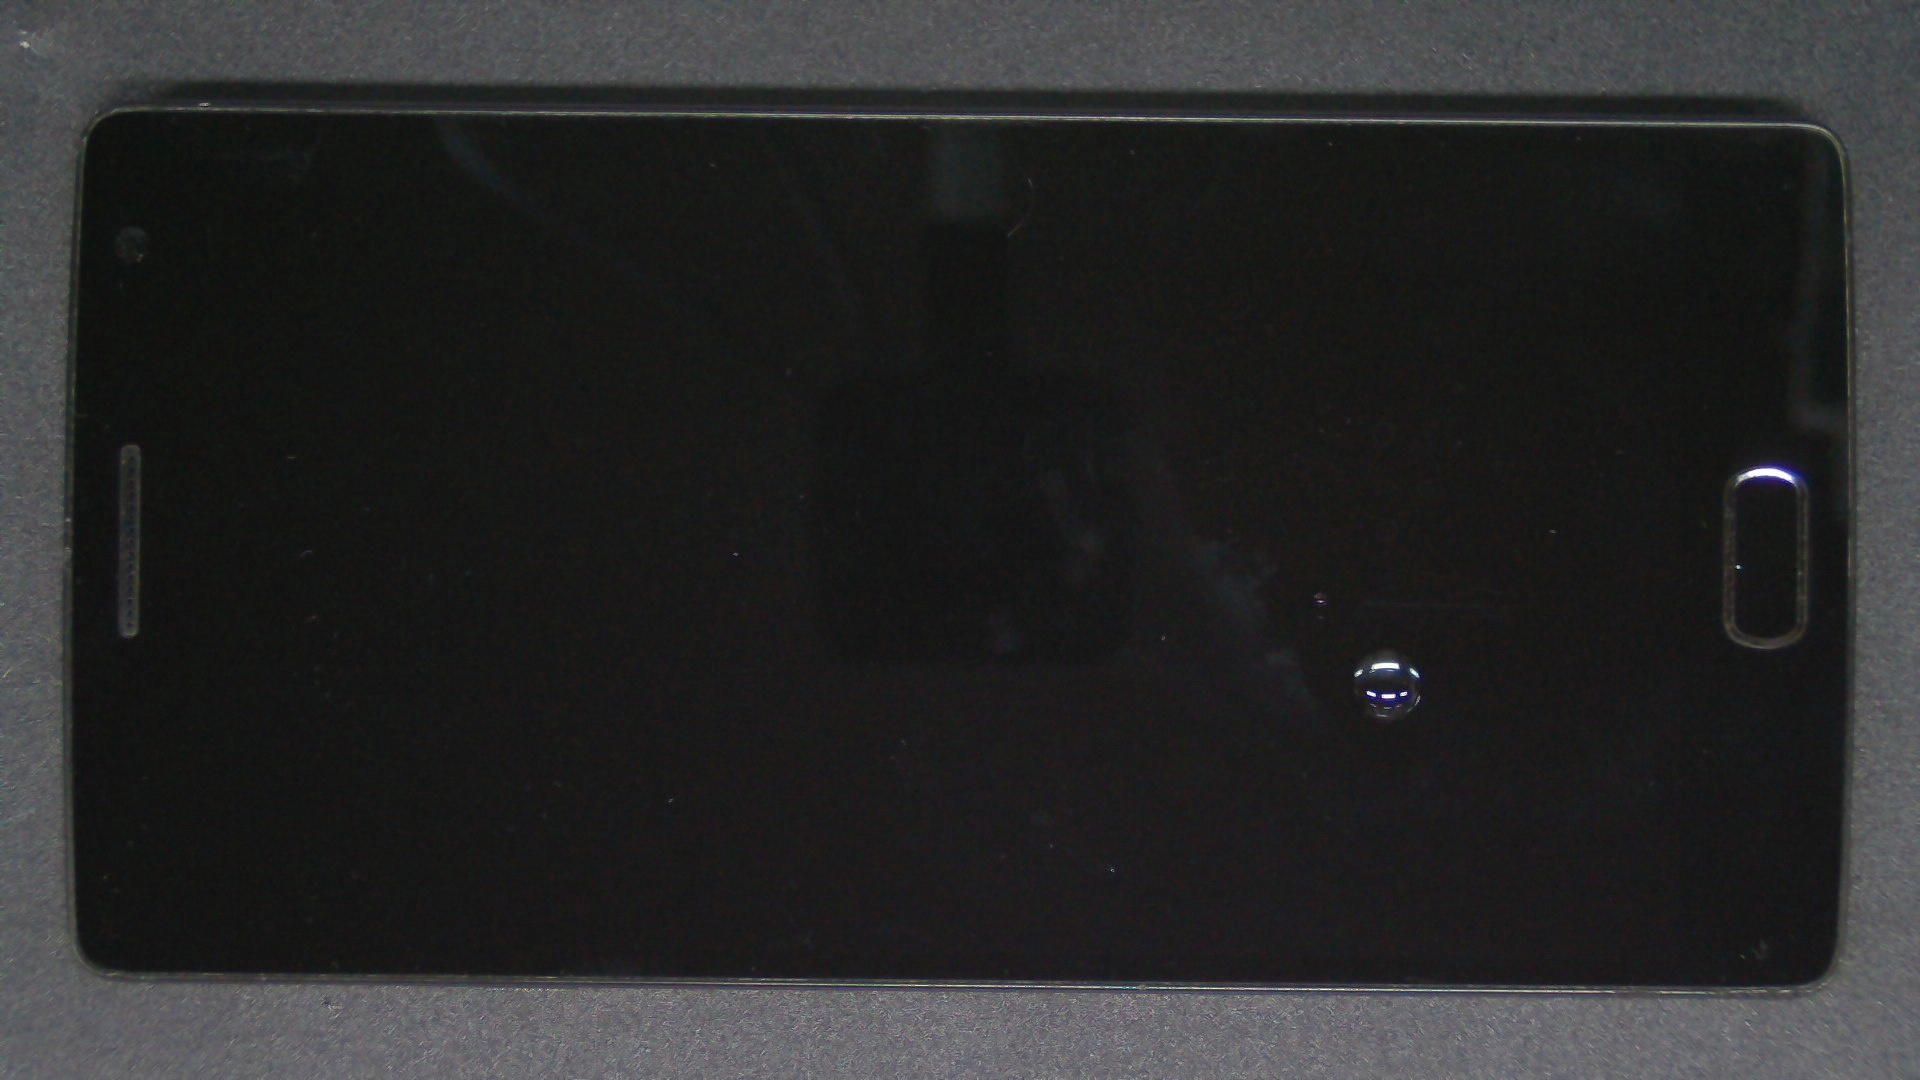oil: (691, 323, 1920, 972), (659, 295, 1920, 887)
